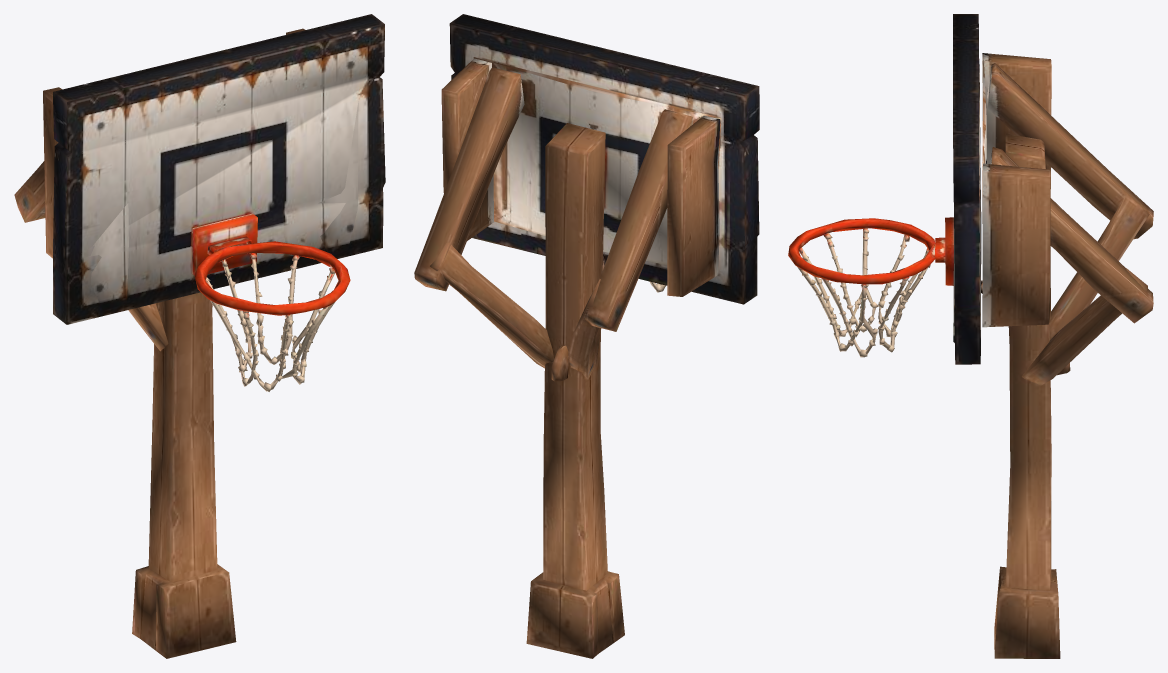
The model's file is basketball_pole.glb.
3 renders of one model, left to right at view 1: azimuth 30°, elevation 25°; view 2: azimuth 150°, elevation 25°; view 3: azimuth 270°, elevation 25°, orthographic. The views are drawn at different scales.
Visible parts, largest first — view 1: Mesh0; view 2: Mesh0; view 3: Mesh0.
Boxes of the visible parts, x1,y1,x2,y2 form: Mesh0: (14, 14, 385, 658); Mesh0: (414, 14, 759, 658); Mesh0: (788, 14, 1153, 658).
Size of the model in its own units: 0.5571 by 1 by 0.5938.
1 material, 1 textured.
